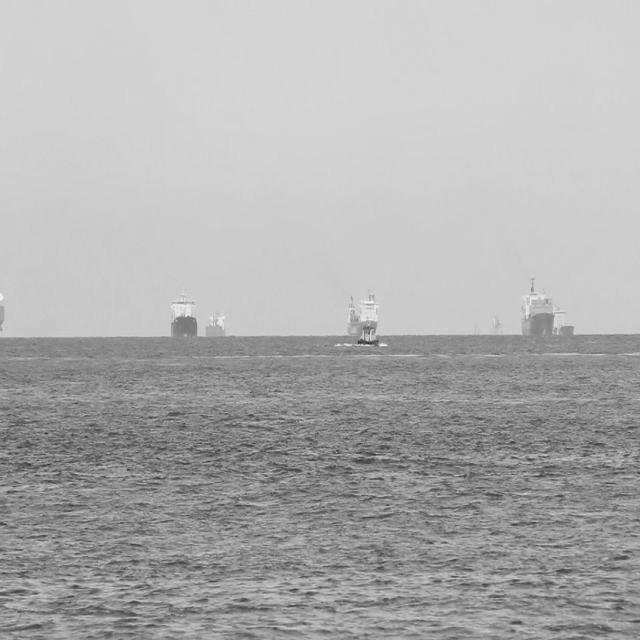ship: (342, 286, 377, 343), (166, 283, 199, 343), (520, 272, 550, 338), (353, 308, 383, 352), (204, 308, 228, 346), (550, 300, 572, 340), (490, 311, 508, 338)
